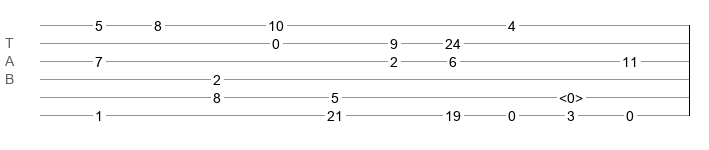0: (272, 36, 280, 46), (508, 108, 516, 118), (626, 108, 634, 118)
1: (95, 108, 103, 118)
10: (268, 18, 284, 28)
11: (622, 54, 638, 64)
19: (445, 108, 461, 118)
2: (213, 72, 221, 82), (390, 54, 398, 64)
21: (327, 108, 343, 118)
24: (445, 36, 461, 46)
3: (567, 108, 575, 118)
4: (508, 18, 516, 28)
5: (95, 18, 103, 28), (331, 90, 339, 100)
6: (449, 54, 457, 64)
7: (95, 54, 103, 64)
8: (154, 18, 162, 28), (213, 90, 221, 100)
9: (390, 36, 398, 46)
harmonic: (559, 90, 583, 100)
